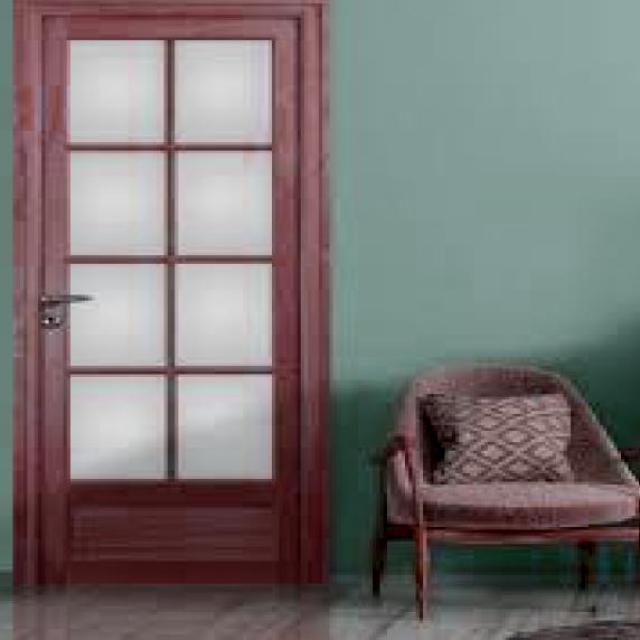door: (13, 1, 328, 590)
